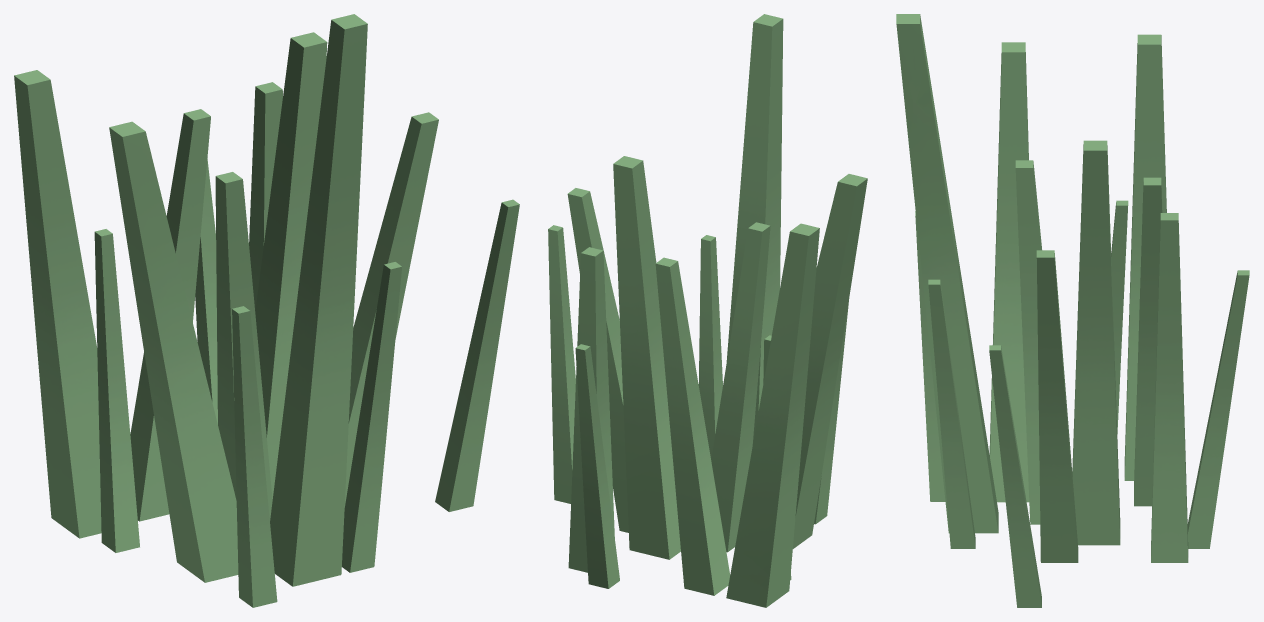
The model's file is Grass.fbx.
3 renders of one model, left to right at view 1: azimuth 30°, elevation 25°; view 2: azimuth 150°, elevation 25°; view 3: azimuth 270°, elevation 25°, orthographic. The views are drawn at different scales.
Parts seen in each view (by area): view 1: group9_pasted__group7_pasted__pasted__group_pasted__pasted__; view 2: group9_pasted__group7_pasted__pasted__group_pasted__pasted__; view 3: group9_pasted__group7_pasted__pasted__group_pasted__pasted__.
Part boxes in pixels (box(x1,y1,x2,y2)): group9_pasted__group7_pasted__pasted__group_pasted__pasted__: box(14, 14, 519, 607); group9_pasted__group7_pasted__pasted__group_pasted__pasted__: box(548, 14, 867, 607); group9_pasted__group7_pasted__pasted__group_pasted__pasted__: box(896, 14, 1249, 607).
Size of the model in its own units: 1.34 by 1.8 by 1.13.
